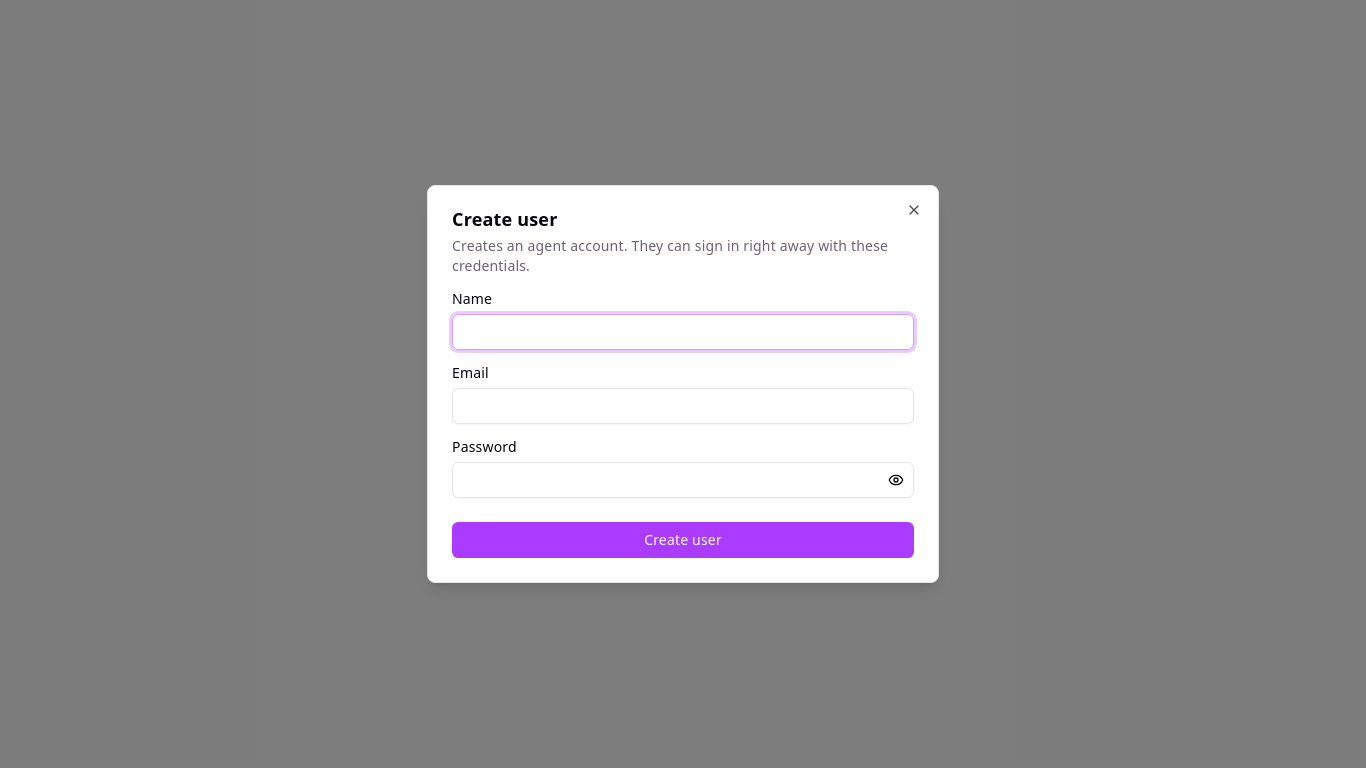
UserFormDialog (create) › shows the server error and stays open
The image size is (1366, 768).
Type "Grace Agent" into the field labelled "Name" at (683, 332), box [452,314,914,350]
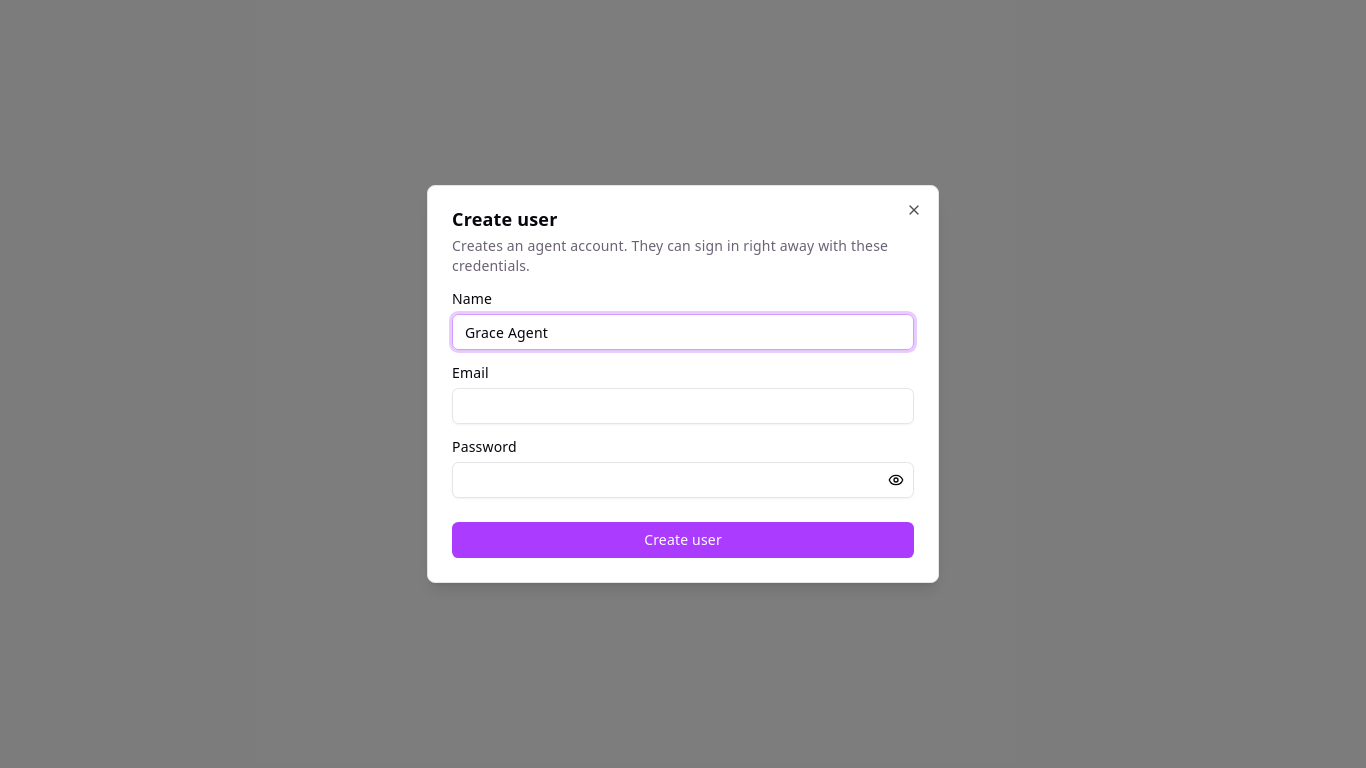
Type "grace@example.com" into the field labelled "Email" at (683, 406), box [452,388,914,424]
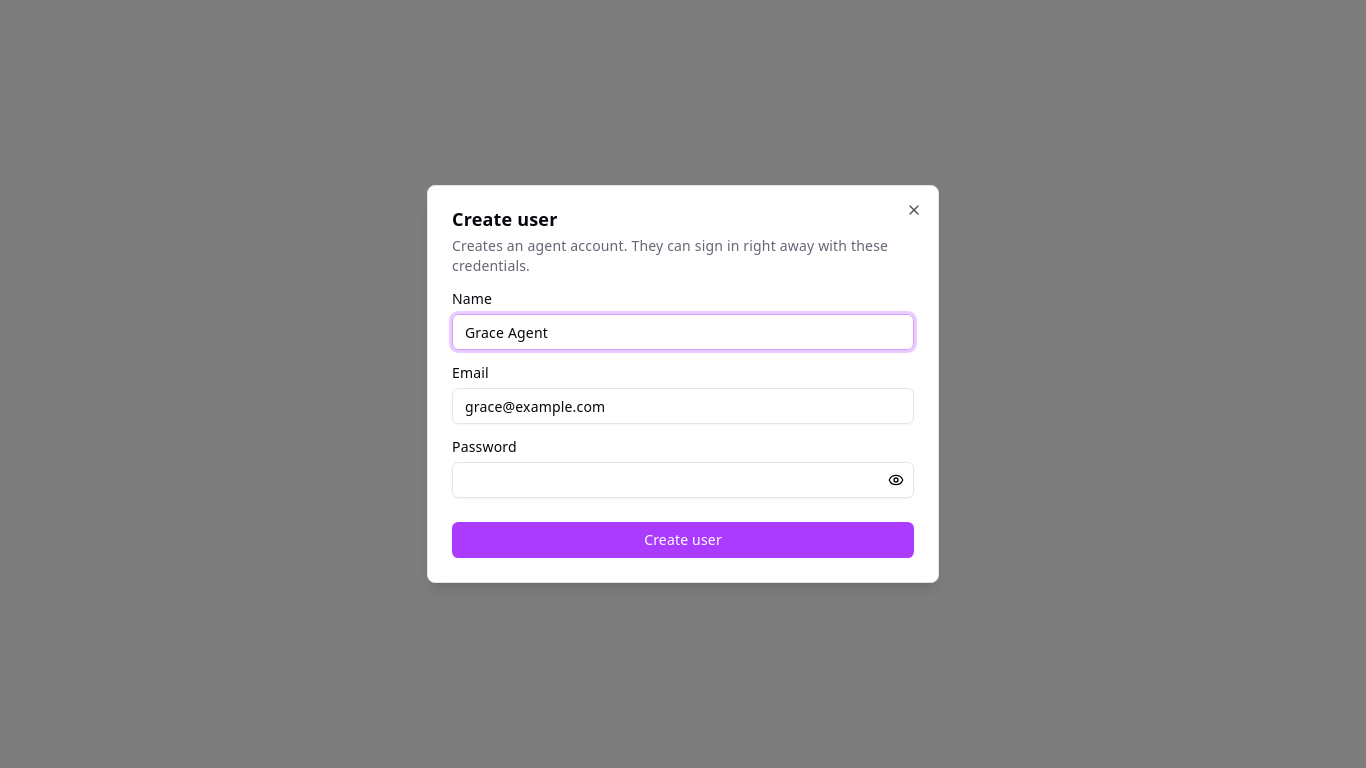
Type "Str0ng!Pass" into the password field labelled "Password" at (683, 480), box [452,462,914,498]
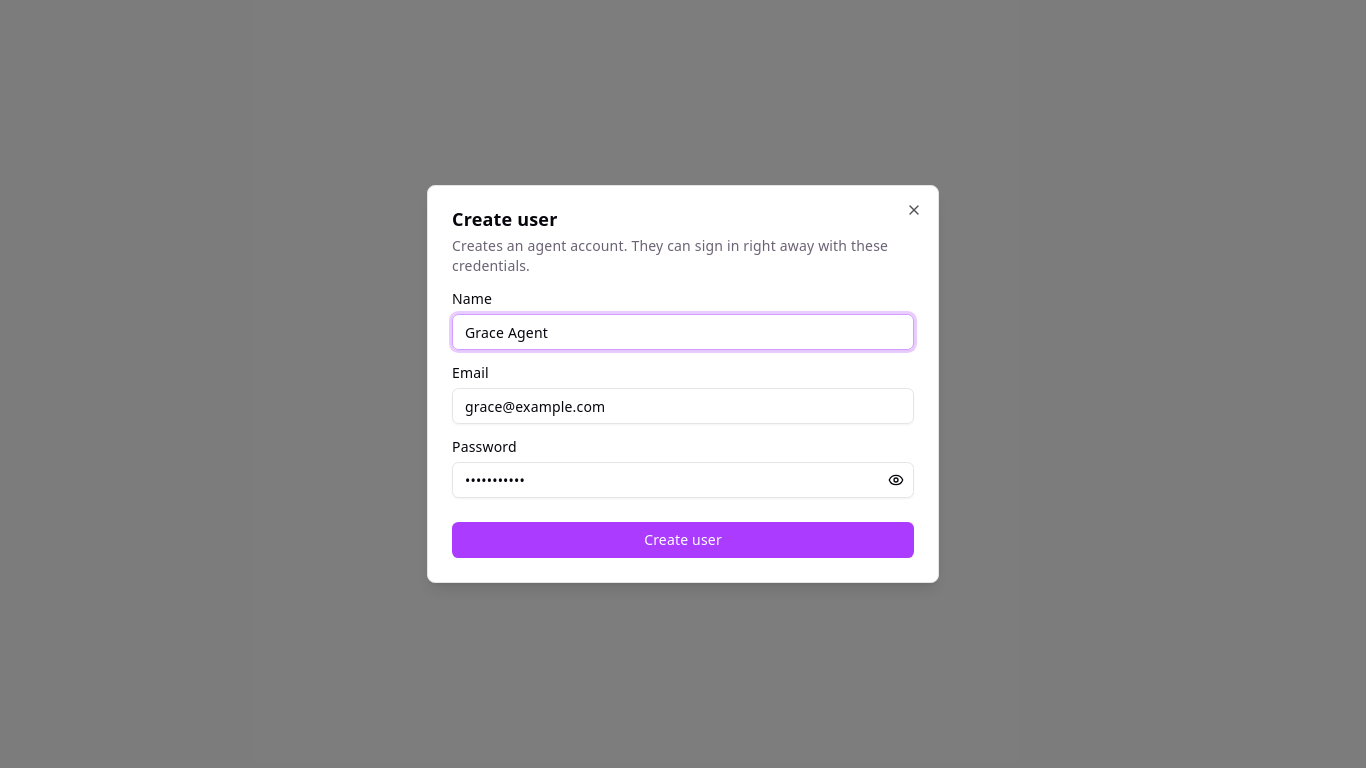
Click the button "Create user" at (683, 540), box [452,522,914,558]
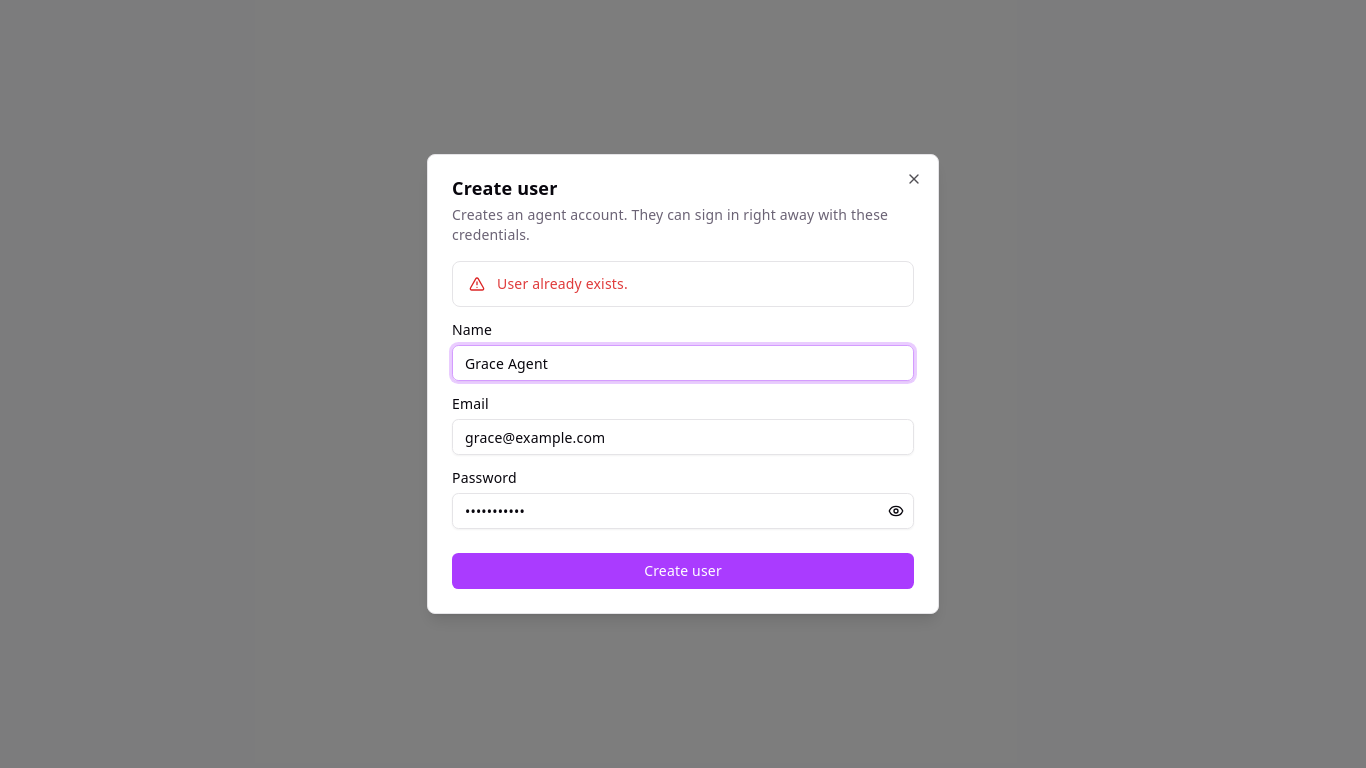
Expected: the text "User already exists." is shown, [497,274,628,293]
